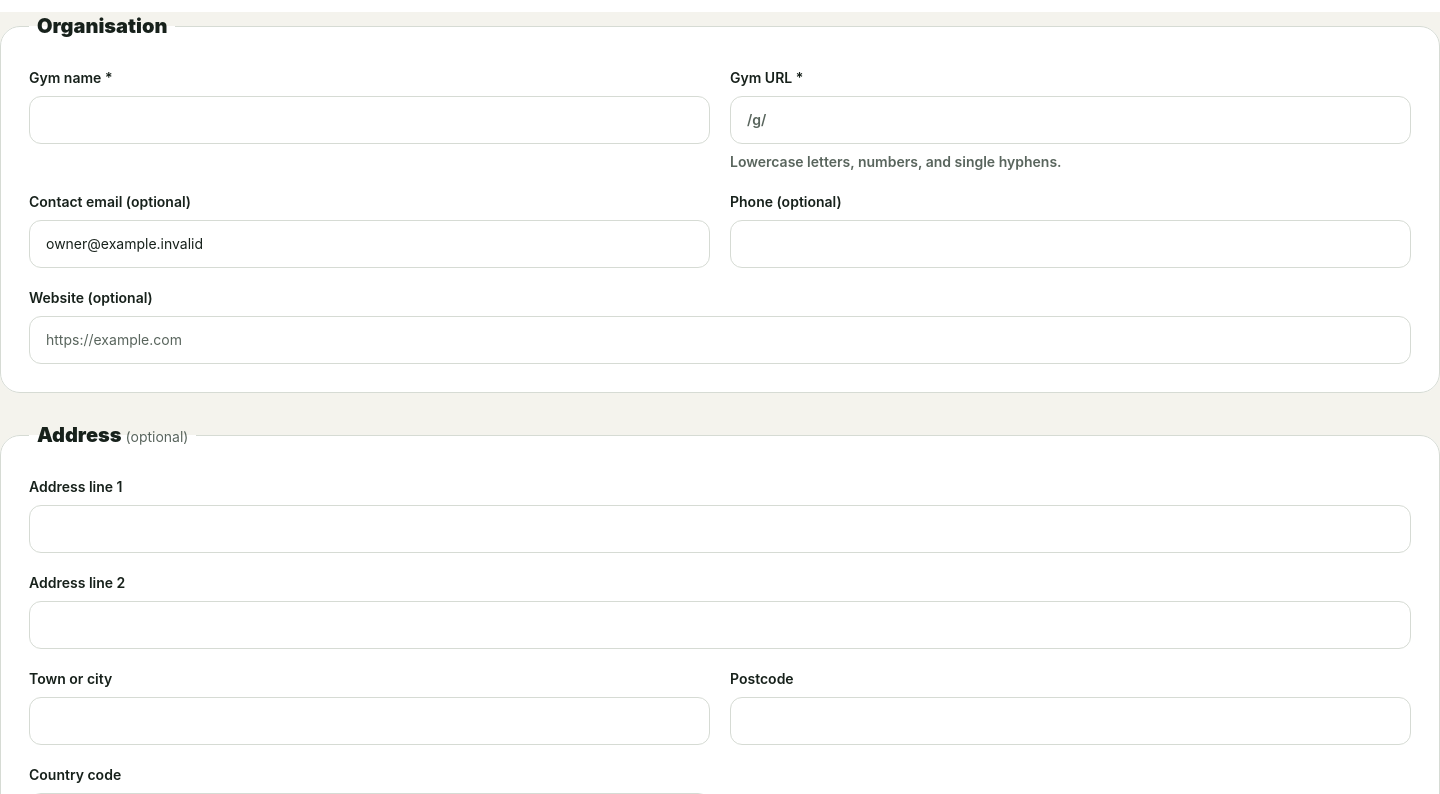
it: FirstGymForm › derives a URL slug and checks its availability
Type "North Peak Centre" into the field labelled "Gym name *" at (370, 120), box x1=29 y1=96 x2=710 y2=144
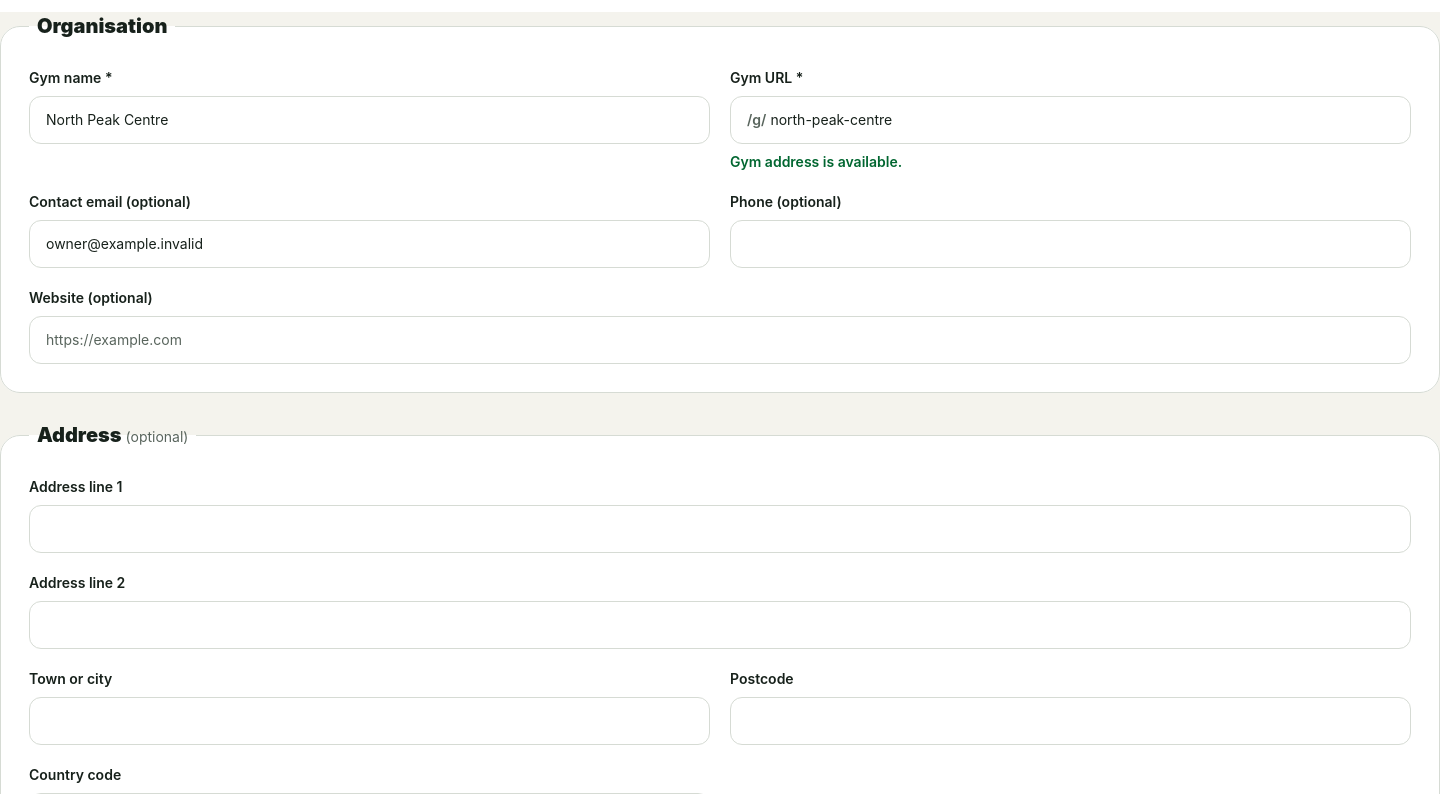
Result: the field labelled "Gym URL * /g/ Gym address is available." holds "north-peak-centre" at x1=766 y1=98 x2=1410 y2=142
Result: the text "Gym address is available." is shown at x1=730 y1=153 x2=902 y2=170
